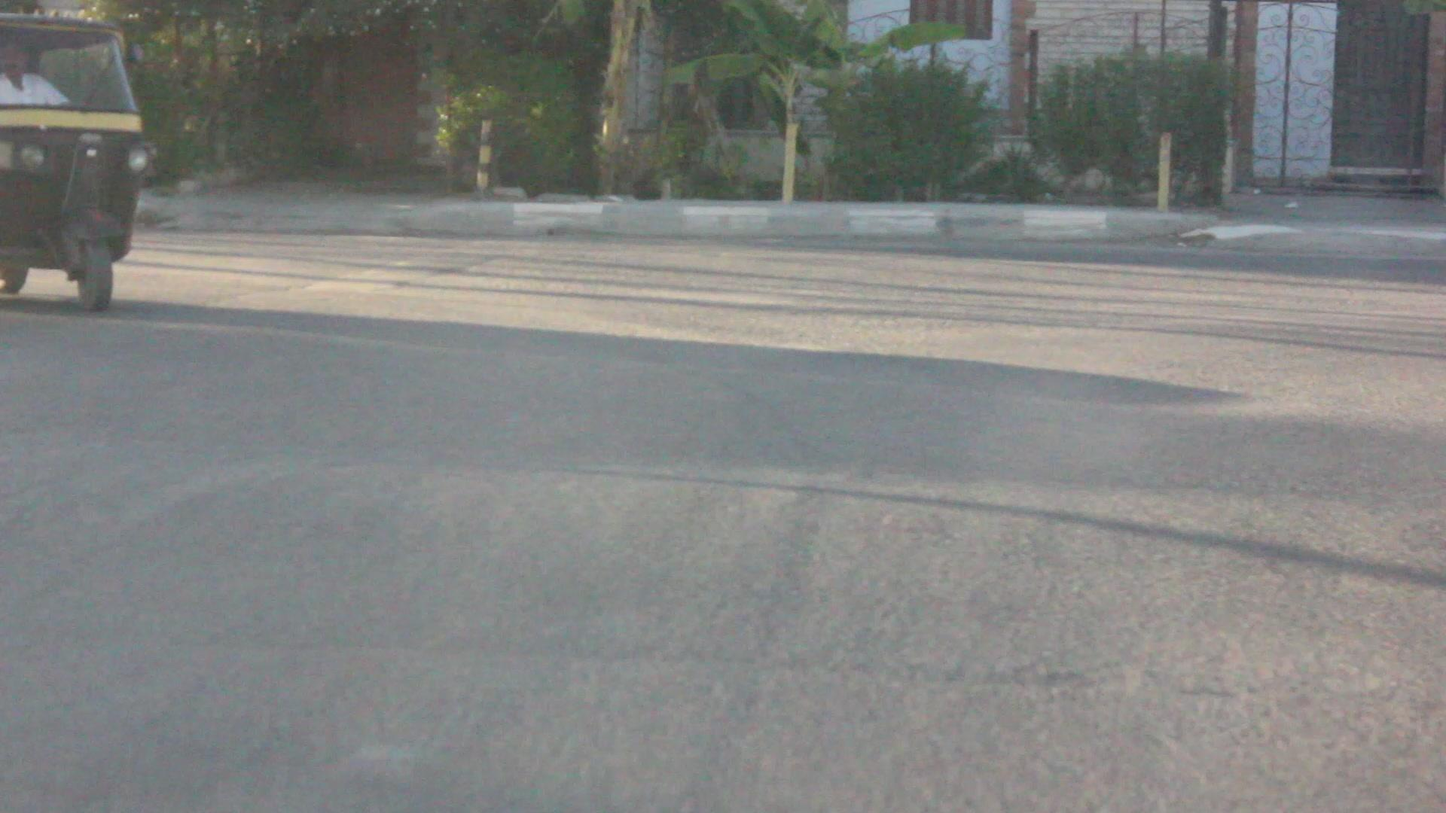Bump: (0, 438, 1446, 723)
